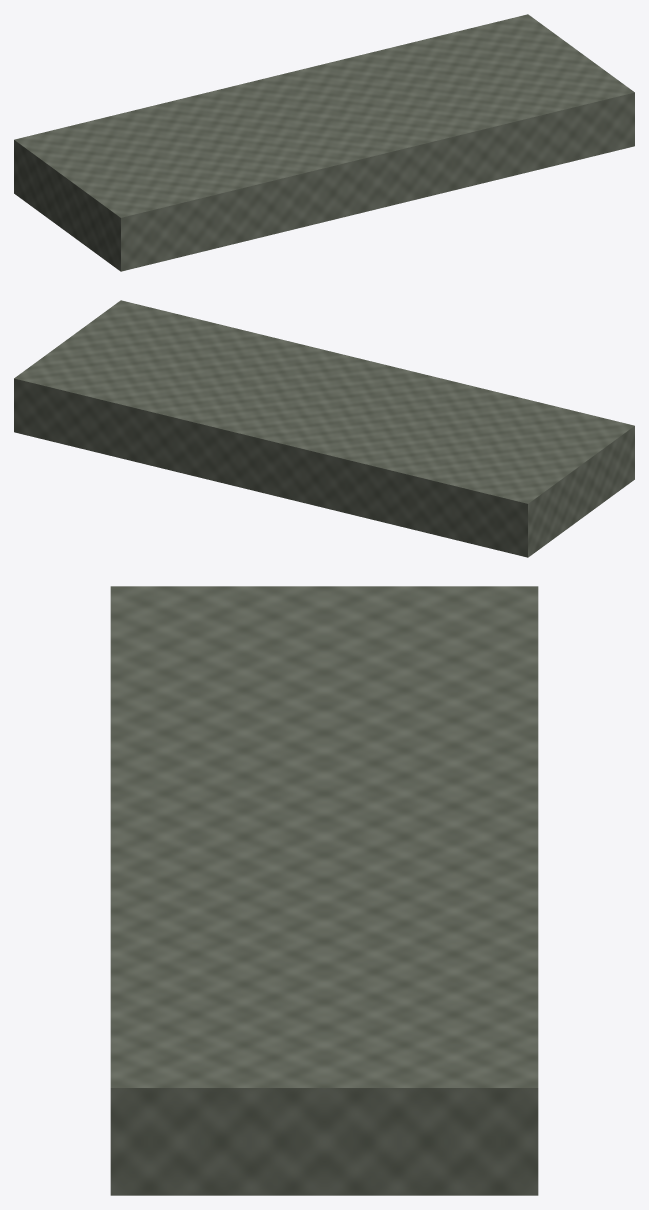
File: MRP_StairStart_1m.fbx
The picture shows the model from 3 angles, top to bottom: view 1: azimuth 30°, elevation 25°; view 2: azimuth 150°, elevation 25°; view 3: azimuth 270°, elevation 25°; orthographic projection. The views are drawn at different scales.
Parts seen in each view (by area): view 1: Body; view 2: Body; view 3: Body.
Boxes of the visible parts, x1,y1,x2,y2 form: Body: (14, 14, 634, 271); Body: (14, 300, 634, 557); Body: (110, 586, 538, 1195).
Size of the model in its own units: 1 by 0.1 by 0.36.
